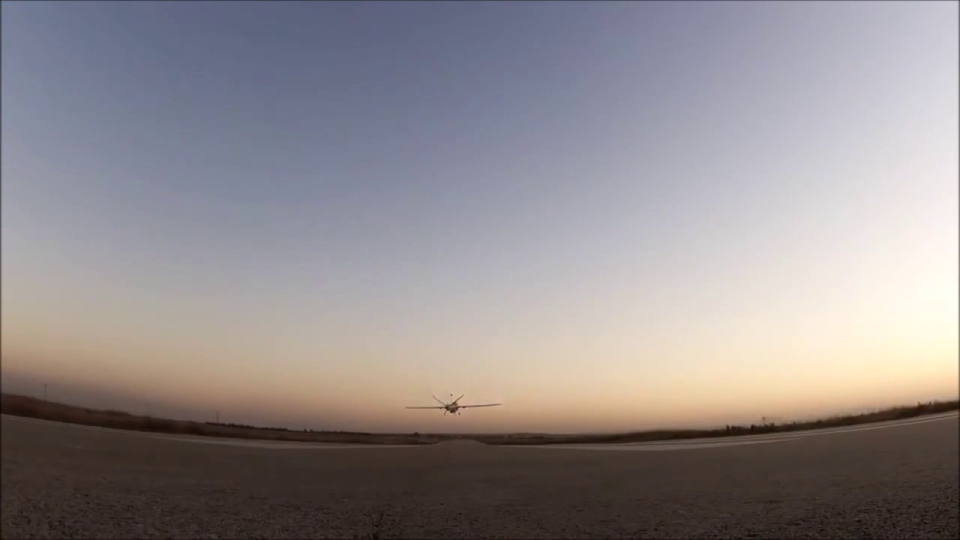military drone: (406, 393, 502, 416)
